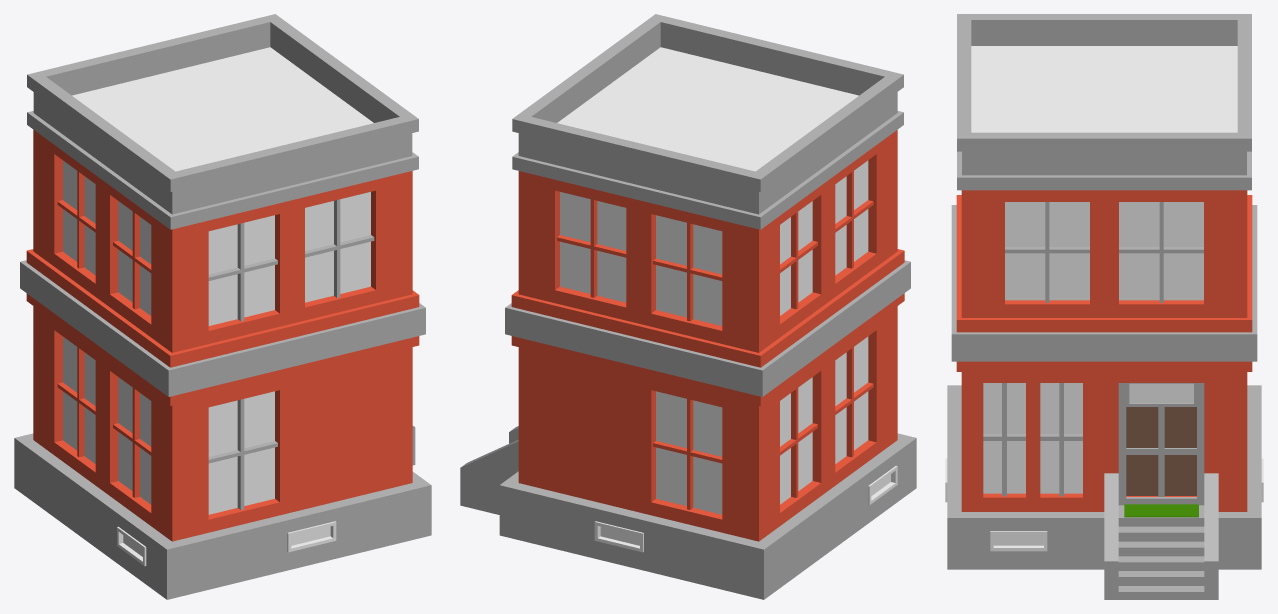
File: building3.glb
The picture shows the model from 3 angles, left to right: view 1: azimuth 30°, elevation 25°; view 2: azimuth 150°, elevation 25°; view 3: azimuth 270°, elevation 25°; orthographic projection. The views are drawn at different scales.
Visible parts, largest first — view 1: Building_03; view 2: Building_03; view 3: Building_03.
Boxes of the visible parts, bbox=[...] form: Building_03: bbox=[14, 14, 431, 599]; Building_03: bbox=[460, 14, 916, 599]; Building_03: bbox=[945, 14, 1263, 599].
Size of the model in its own units: 2.71 by 3.3 by 2.23.
